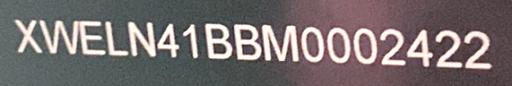letter: (260, 22, 300, 63), (38, 18, 80, 55), (462, 27, 494, 68), (432, 27, 464, 67), (126, 19, 158, 57), (232, 22, 262, 62), (405, 25, 433, 66), (204, 21, 234, 59), (11, 18, 43, 53), (324, 24, 352, 64), (352, 25, 380, 65), (378, 26, 406, 65), (298, 24, 326, 62), (78, 18, 106, 55), (102, 21, 130, 56), (156, 21, 182, 58), (180, 21, 200, 61)
